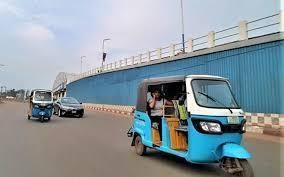keke: (131, 72, 256, 176), (28, 87, 54, 122)
